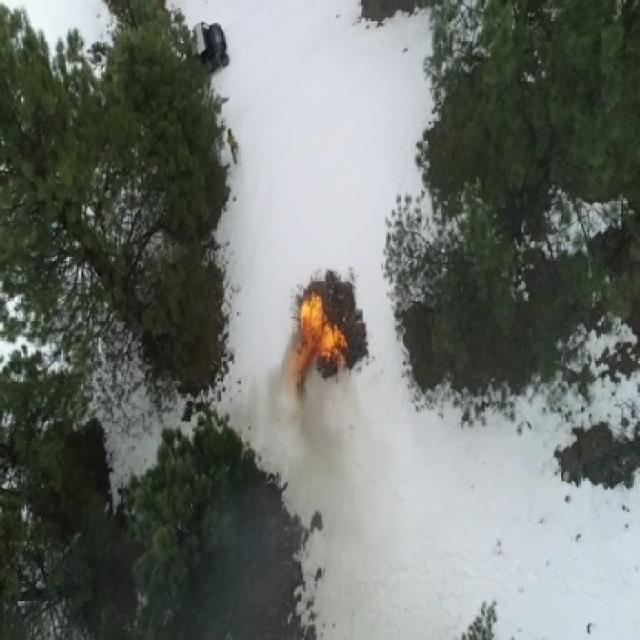Fire: (286, 286, 349, 396)
